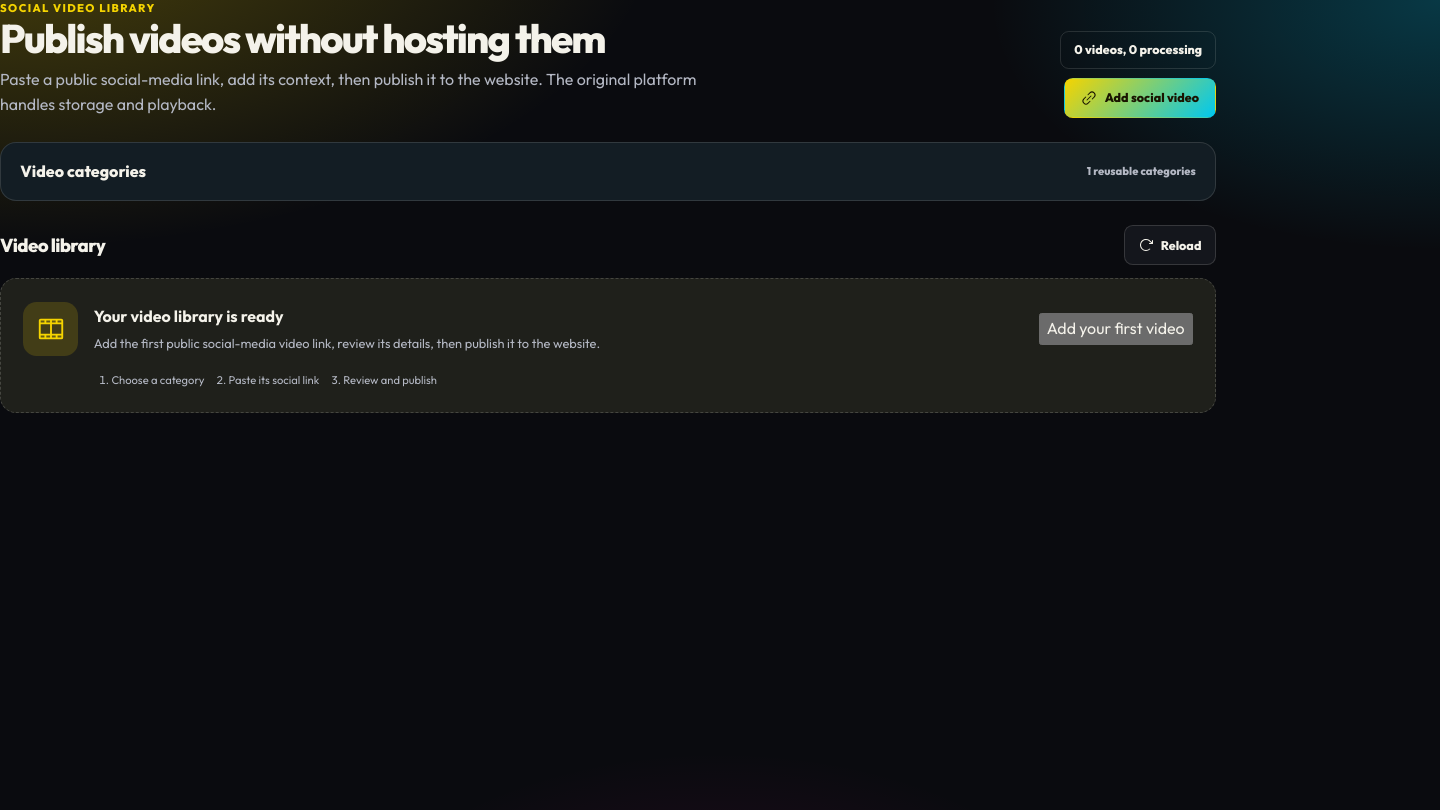
Test: creates a category from the picker's own filter
The image size is (1440, 810).
Click the button "Add social video". click: click(1140, 98)
box: [1064, 78, 1216, 118]
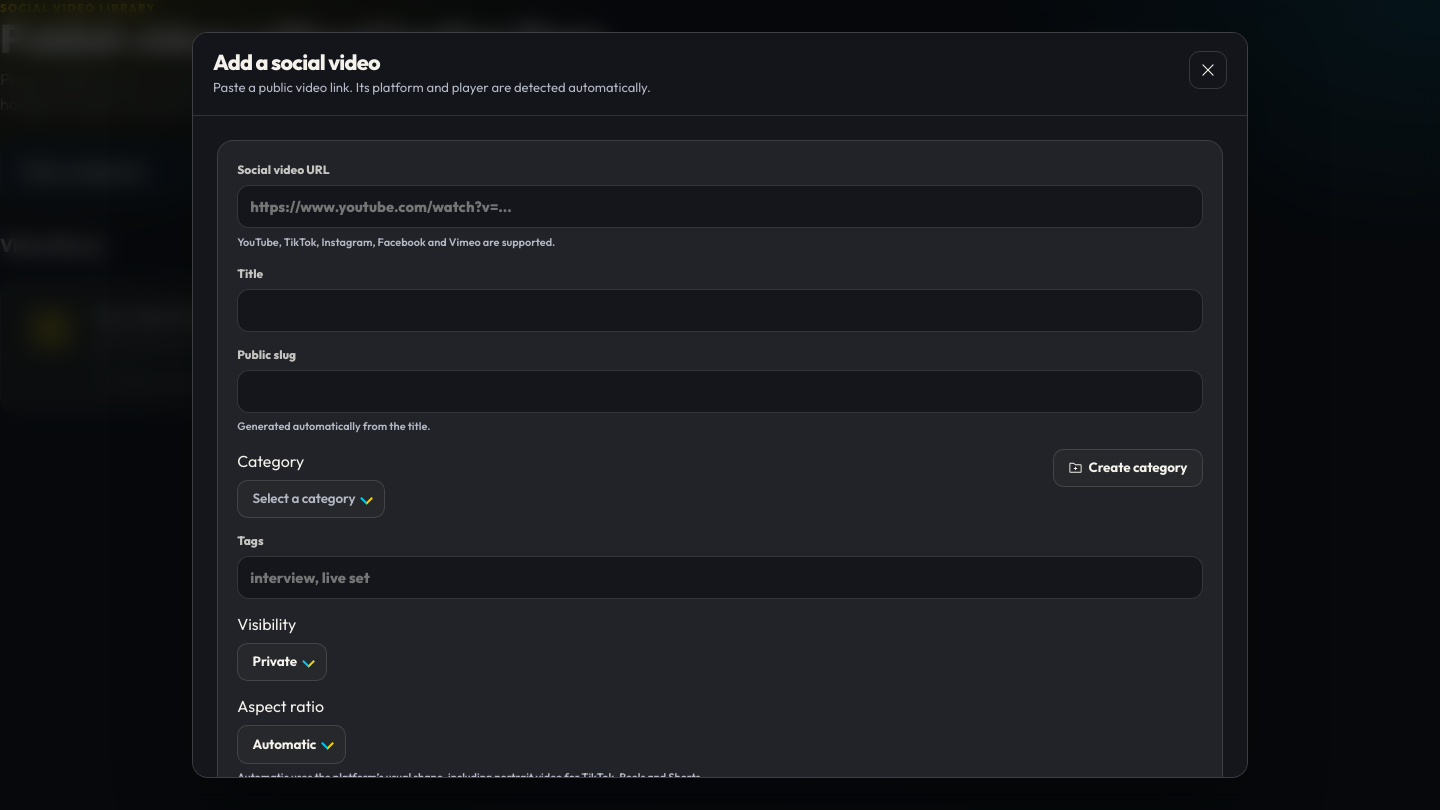
Click the button "Select a category". click: click(311, 499)
box: [237, 480, 385, 518]
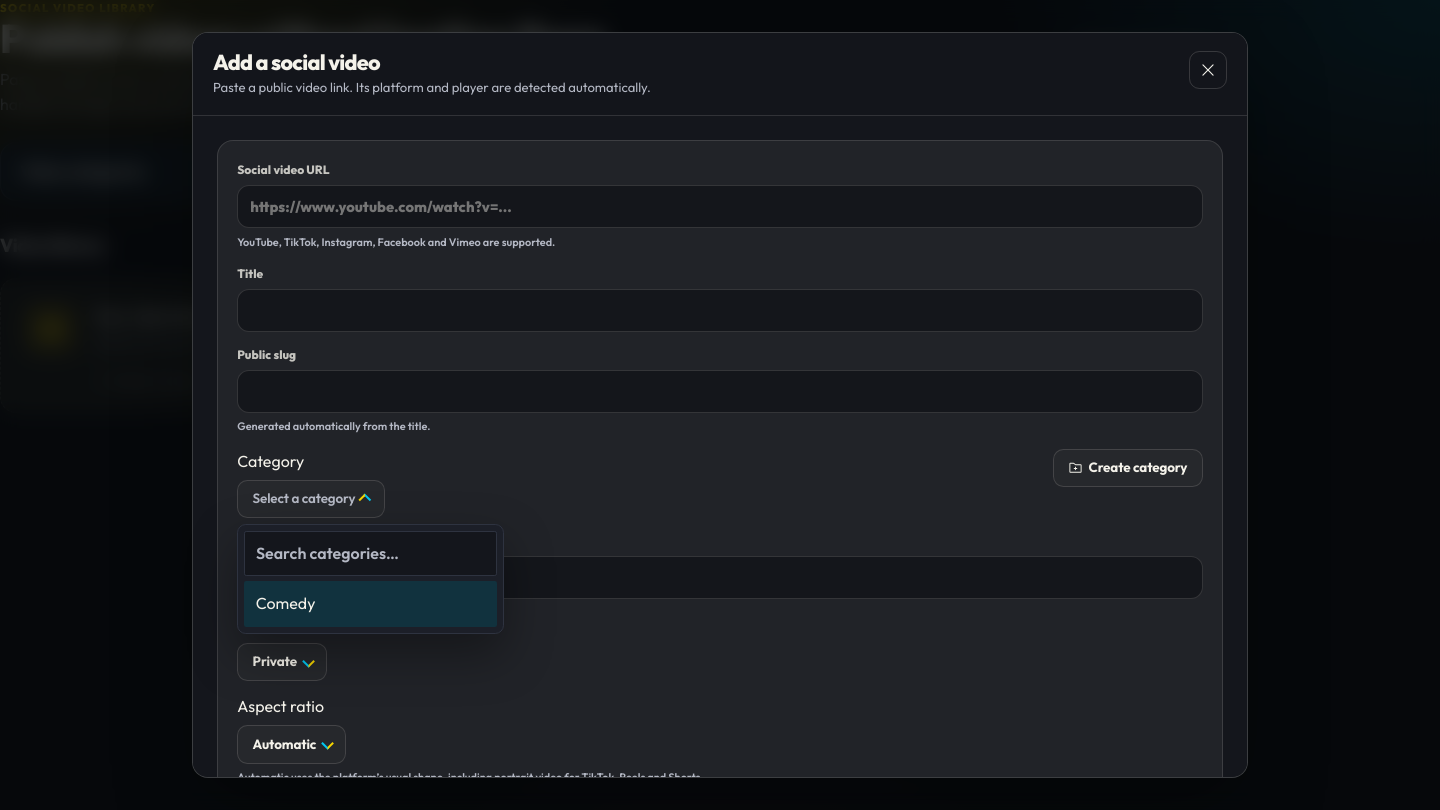
Result: the option "Comedy" is shown at [244, 581, 497, 627]
Type "Poetry" into the dropdown named "filter". click: (370, 553)
box: [244, 531, 497, 576]
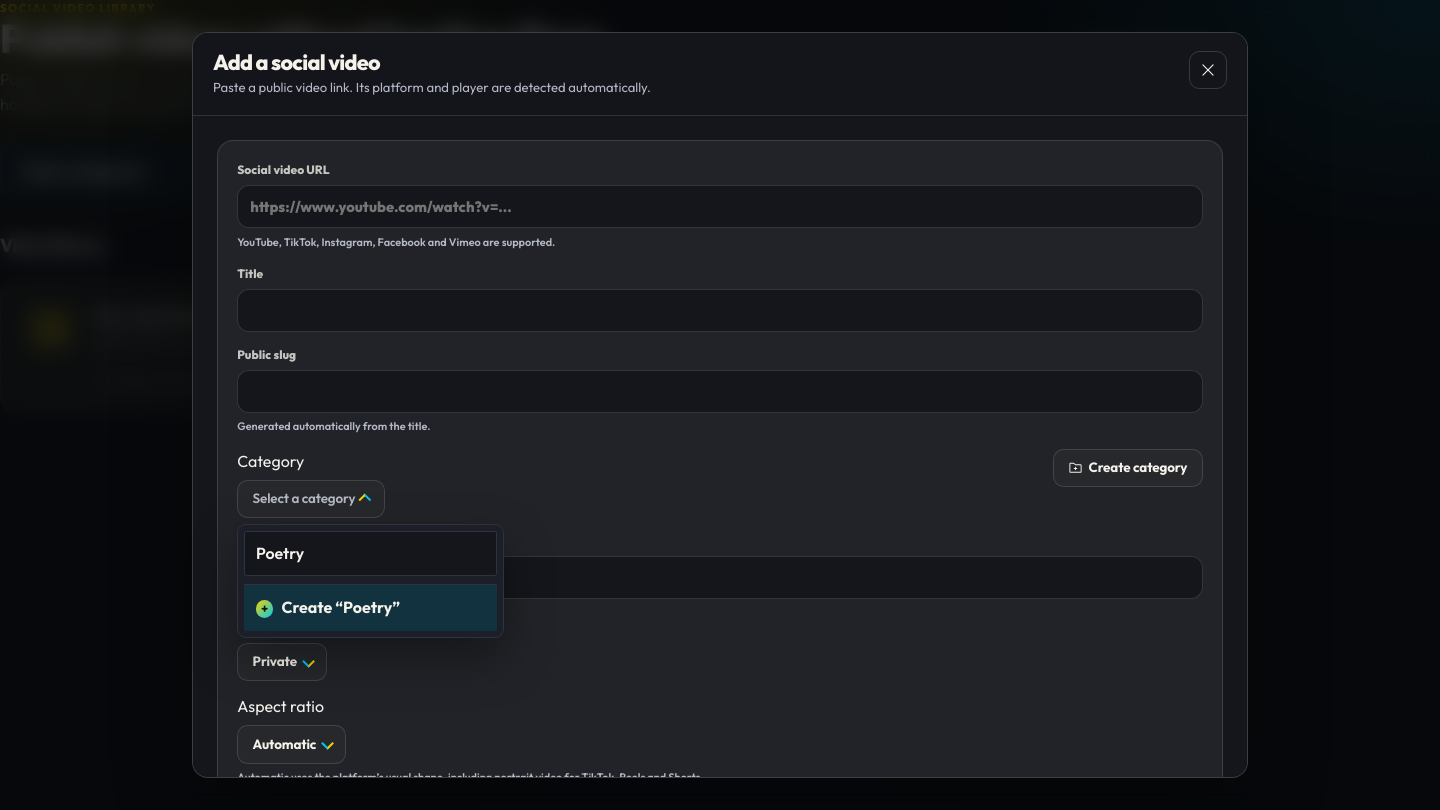
Click the option "+ Create “Poetry”". click: click(370, 608)
box: [244, 584, 497, 631]
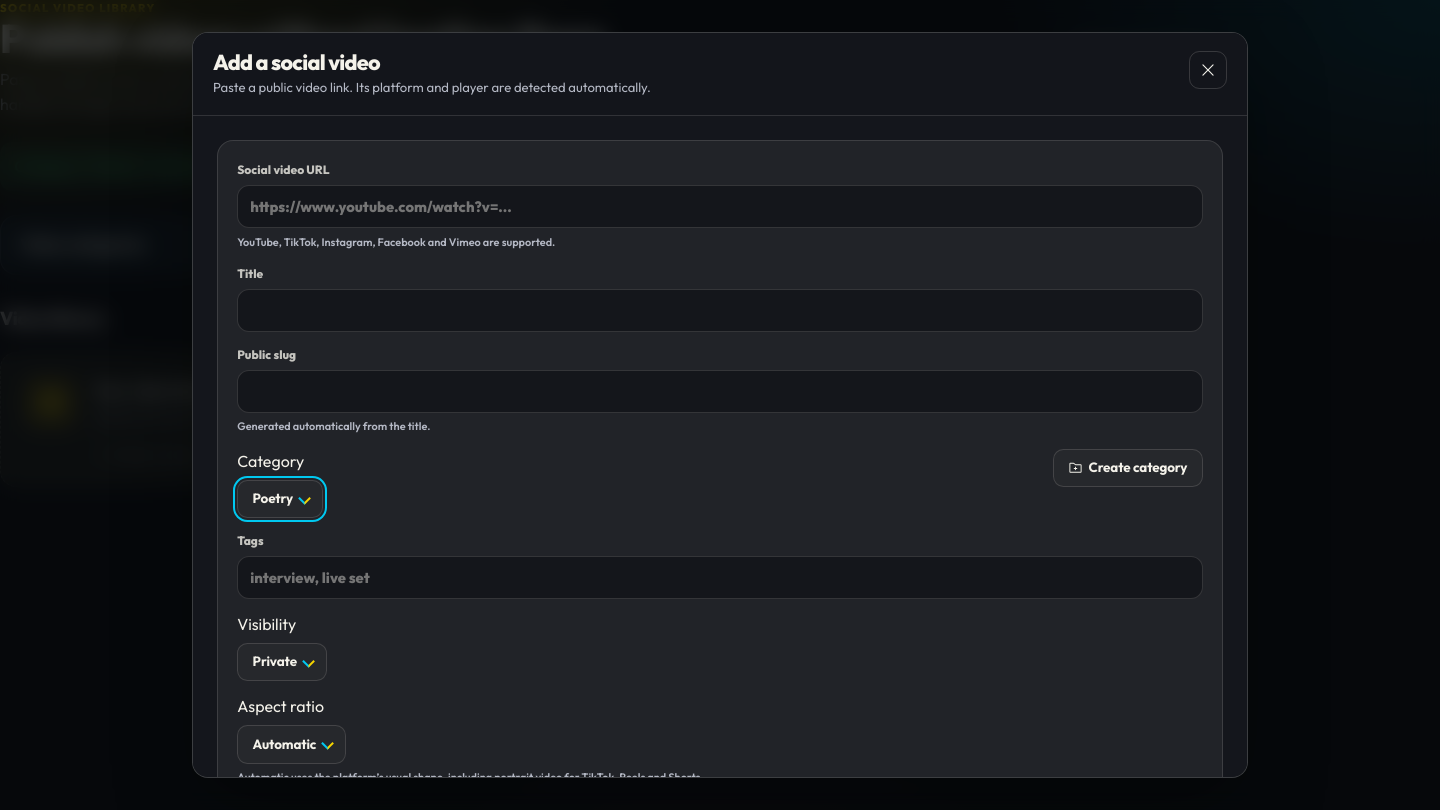
Result: the button with aria-label "Category" reads "Poetry" at [237, 480, 323, 518]
